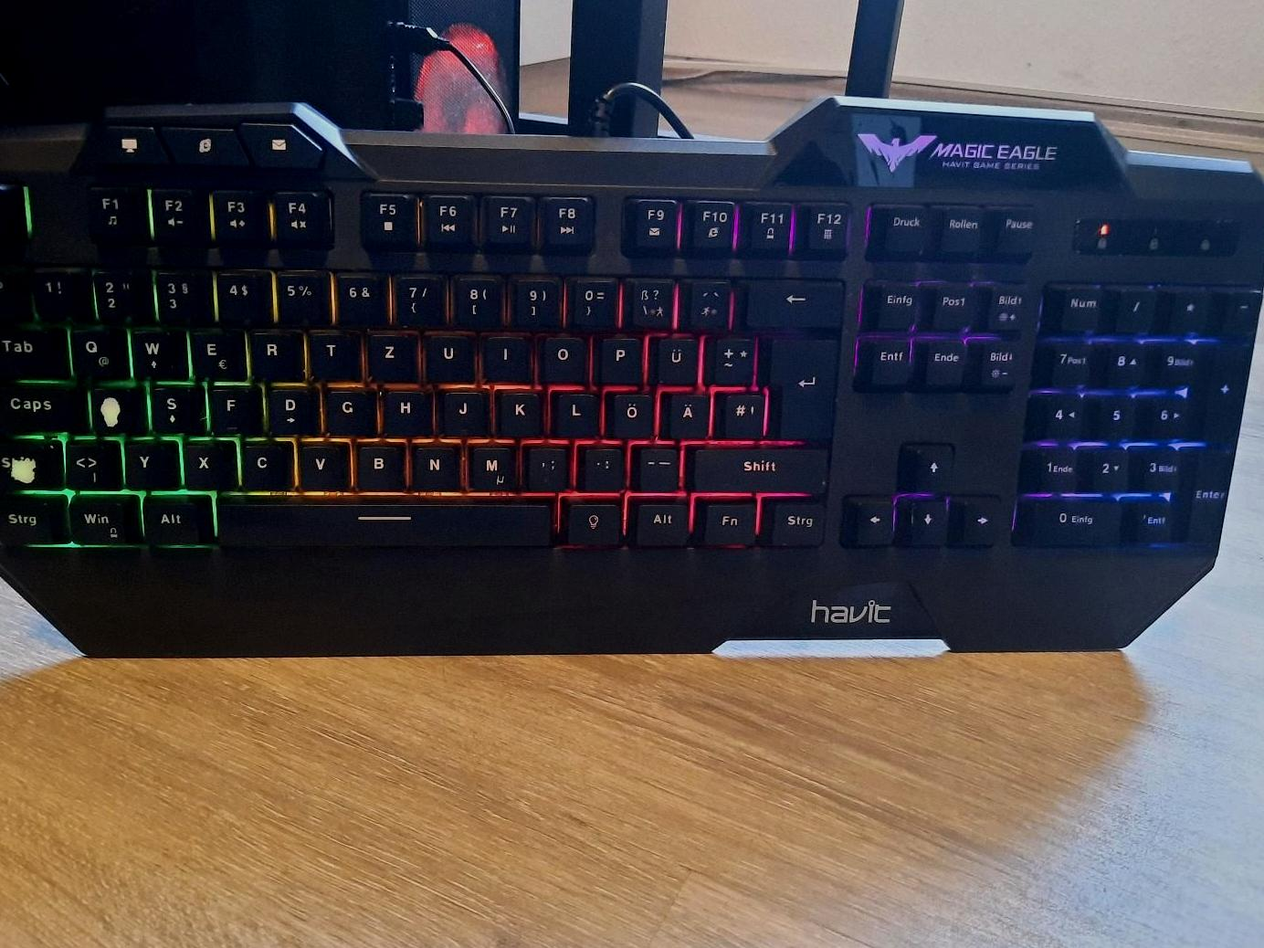0: (567, 274, 617, 327)
1: (30, 266, 86, 320)
2: (90, 267, 147, 321)
3: (152, 266, 211, 322)
4: (214, 267, 271, 322)
5: (273, 268, 331, 323)
6: (333, 270, 388, 325)
7: (392, 271, 444, 324)
8: (451, 273, 502, 327)
9: (511, 275, 561, 327)
a: (89, 383, 146, 432)
accent: (680, 276, 730, 328)
ae: (659, 387, 707, 436)
alt-left: (139, 491, 213, 543)
altgr-right: (630, 500, 690, 548)
b: (353, 439, 404, 488)
c: (238, 437, 290, 489)
caret: (1, 267, 29, 321)
comma: (521, 439, 567, 487)
d: (266, 382, 316, 434)
del: (742, 275, 844, 327)
e: (186, 326, 245, 378)
enter: (767, 334, 835, 439)
f: (207, 381, 259, 433)
g: (323, 384, 372, 434)
h: (381, 385, 429, 434)
hash: (712, 387, 764, 436)
i: (479, 331, 530, 380)
j: (438, 386, 486, 435)
k: (494, 386, 541, 435)
keyboard: (1, 157, 1259, 591)
l: (549, 386, 596, 435)
less: (63, 437, 121, 489)
m: (466, 440, 513, 488)
minus: (628, 440, 676, 488)
n: (409, 440, 459, 489)
o: (537, 332, 585, 382)
oe: (604, 388, 651, 437)
p: (593, 332, 641, 382)
plus: (704, 332, 753, 383)
point: (577, 441, 623, 488)
q: (67, 324, 128, 378)
r: (247, 326, 302, 378)
s: (148, 381, 203, 433)
shift-left: (1, 437, 64, 489)
shift-lock: (1, 383, 85, 432)
shift-right: (685, 443, 824, 490)
space: (211, 494, 554, 549)
ss: (625, 275, 673, 327)
strg-left: (1, 496, 65, 543)
strg-right: (764, 496, 824, 544)
t: (306, 327, 359, 377)
tab: (1, 325, 68, 378)
u: (421, 329, 473, 382)
ue: (650, 331, 696, 384)
v: (296, 438, 349, 488)
w: (127, 325, 184, 378)
x: (181, 437, 236, 489)
y: (121, 437, 178, 489)
z: (364, 328, 416, 380)
